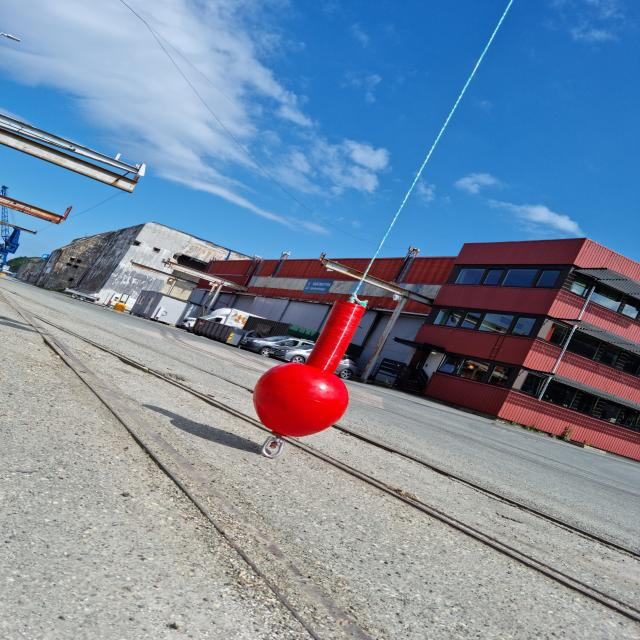red: (254, 300, 364, 436)
